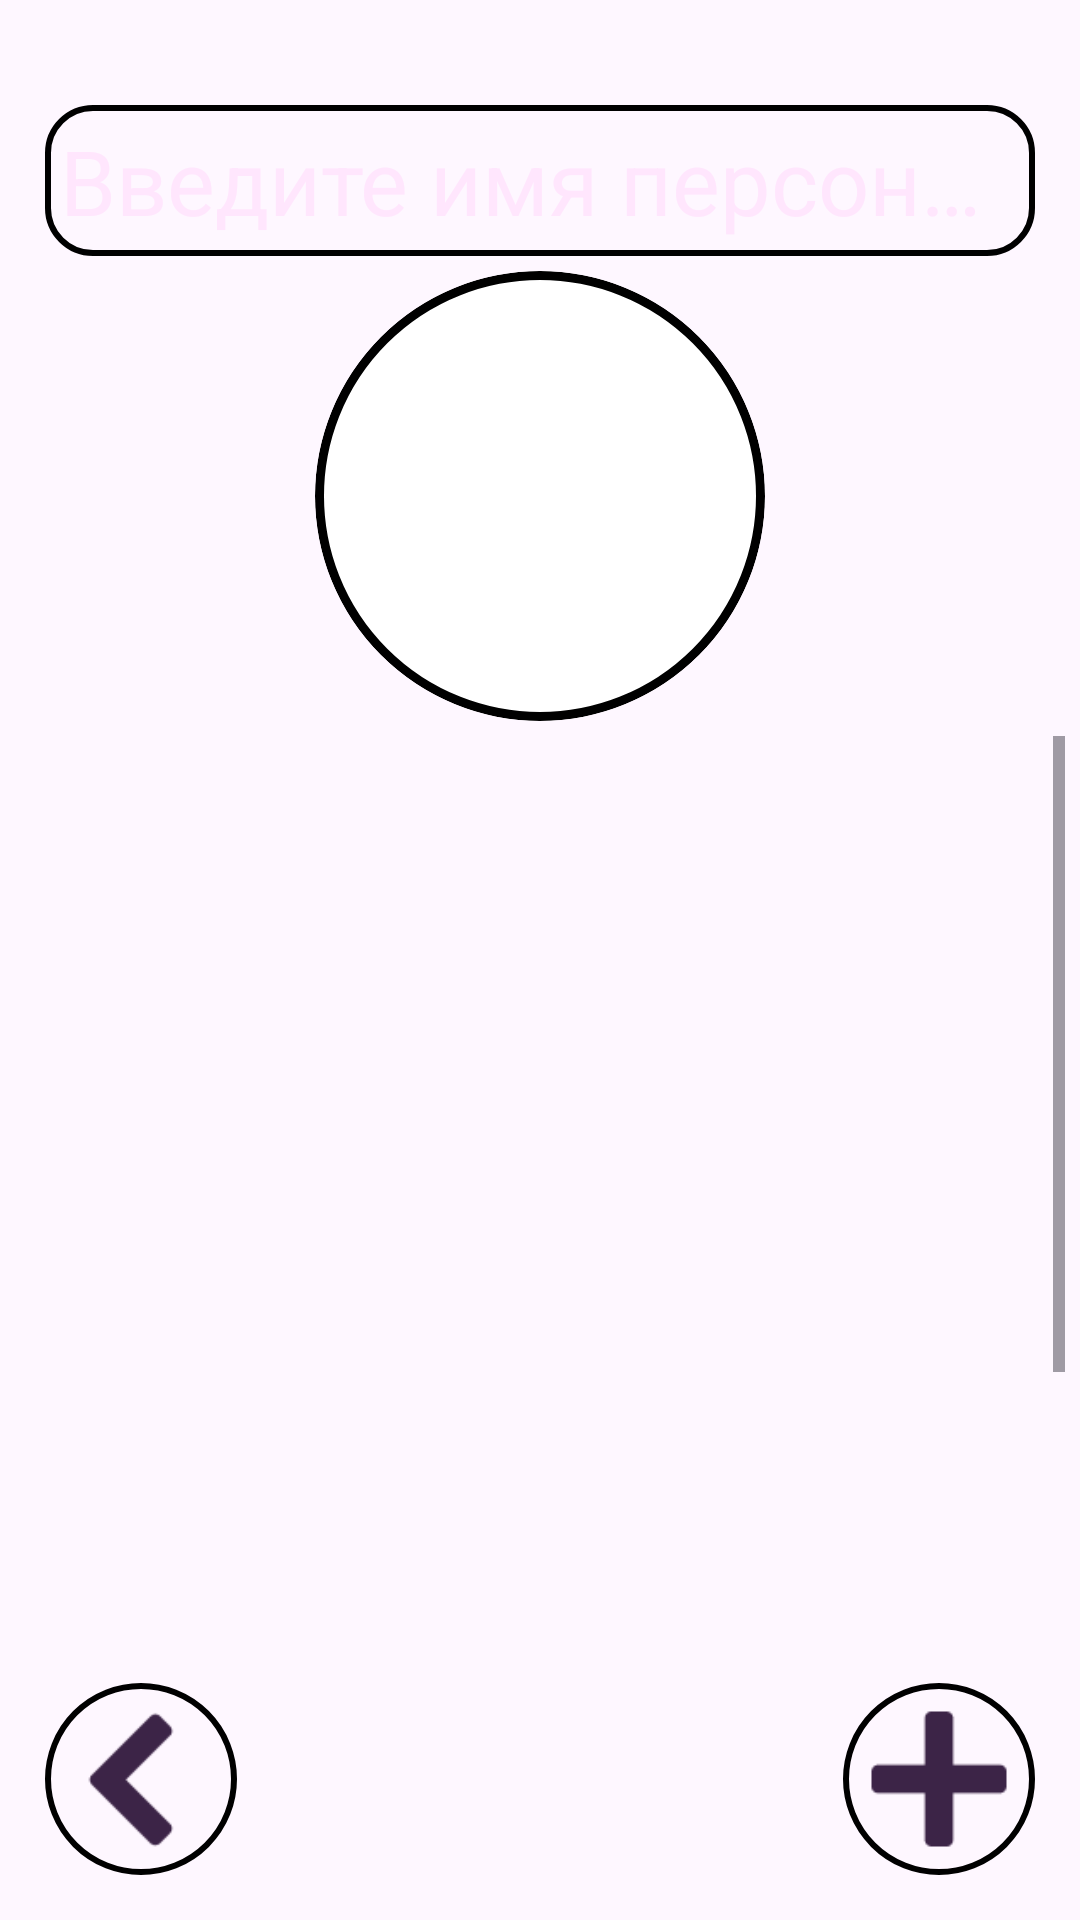

Icons on this 1080 × 1920 Android screen, each with its box as (x1, y1, x2, y2):
add: (843, 1683, 1035, 1875)
back: (45, 1683, 237, 1875)
